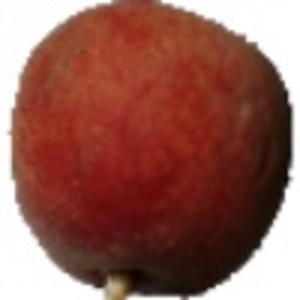pêssego: (8, 1, 295, 300)
